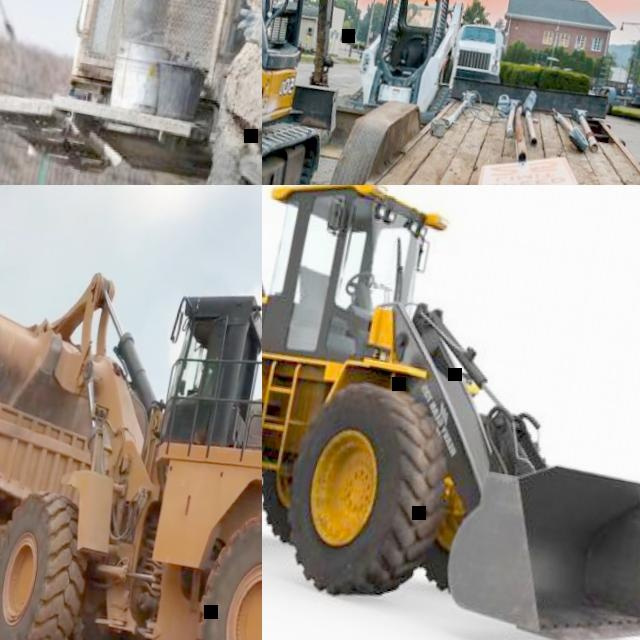Person: (163, 0, 262, 185), (117, 0, 240, 45)
machinery: (262, 185, 640, 640), (0, 234, 262, 640), (0, 0, 262, 185), (0, 372, 115, 640), (309, 0, 470, 176), (262, 0, 401, 185), (449, 18, 509, 85)
